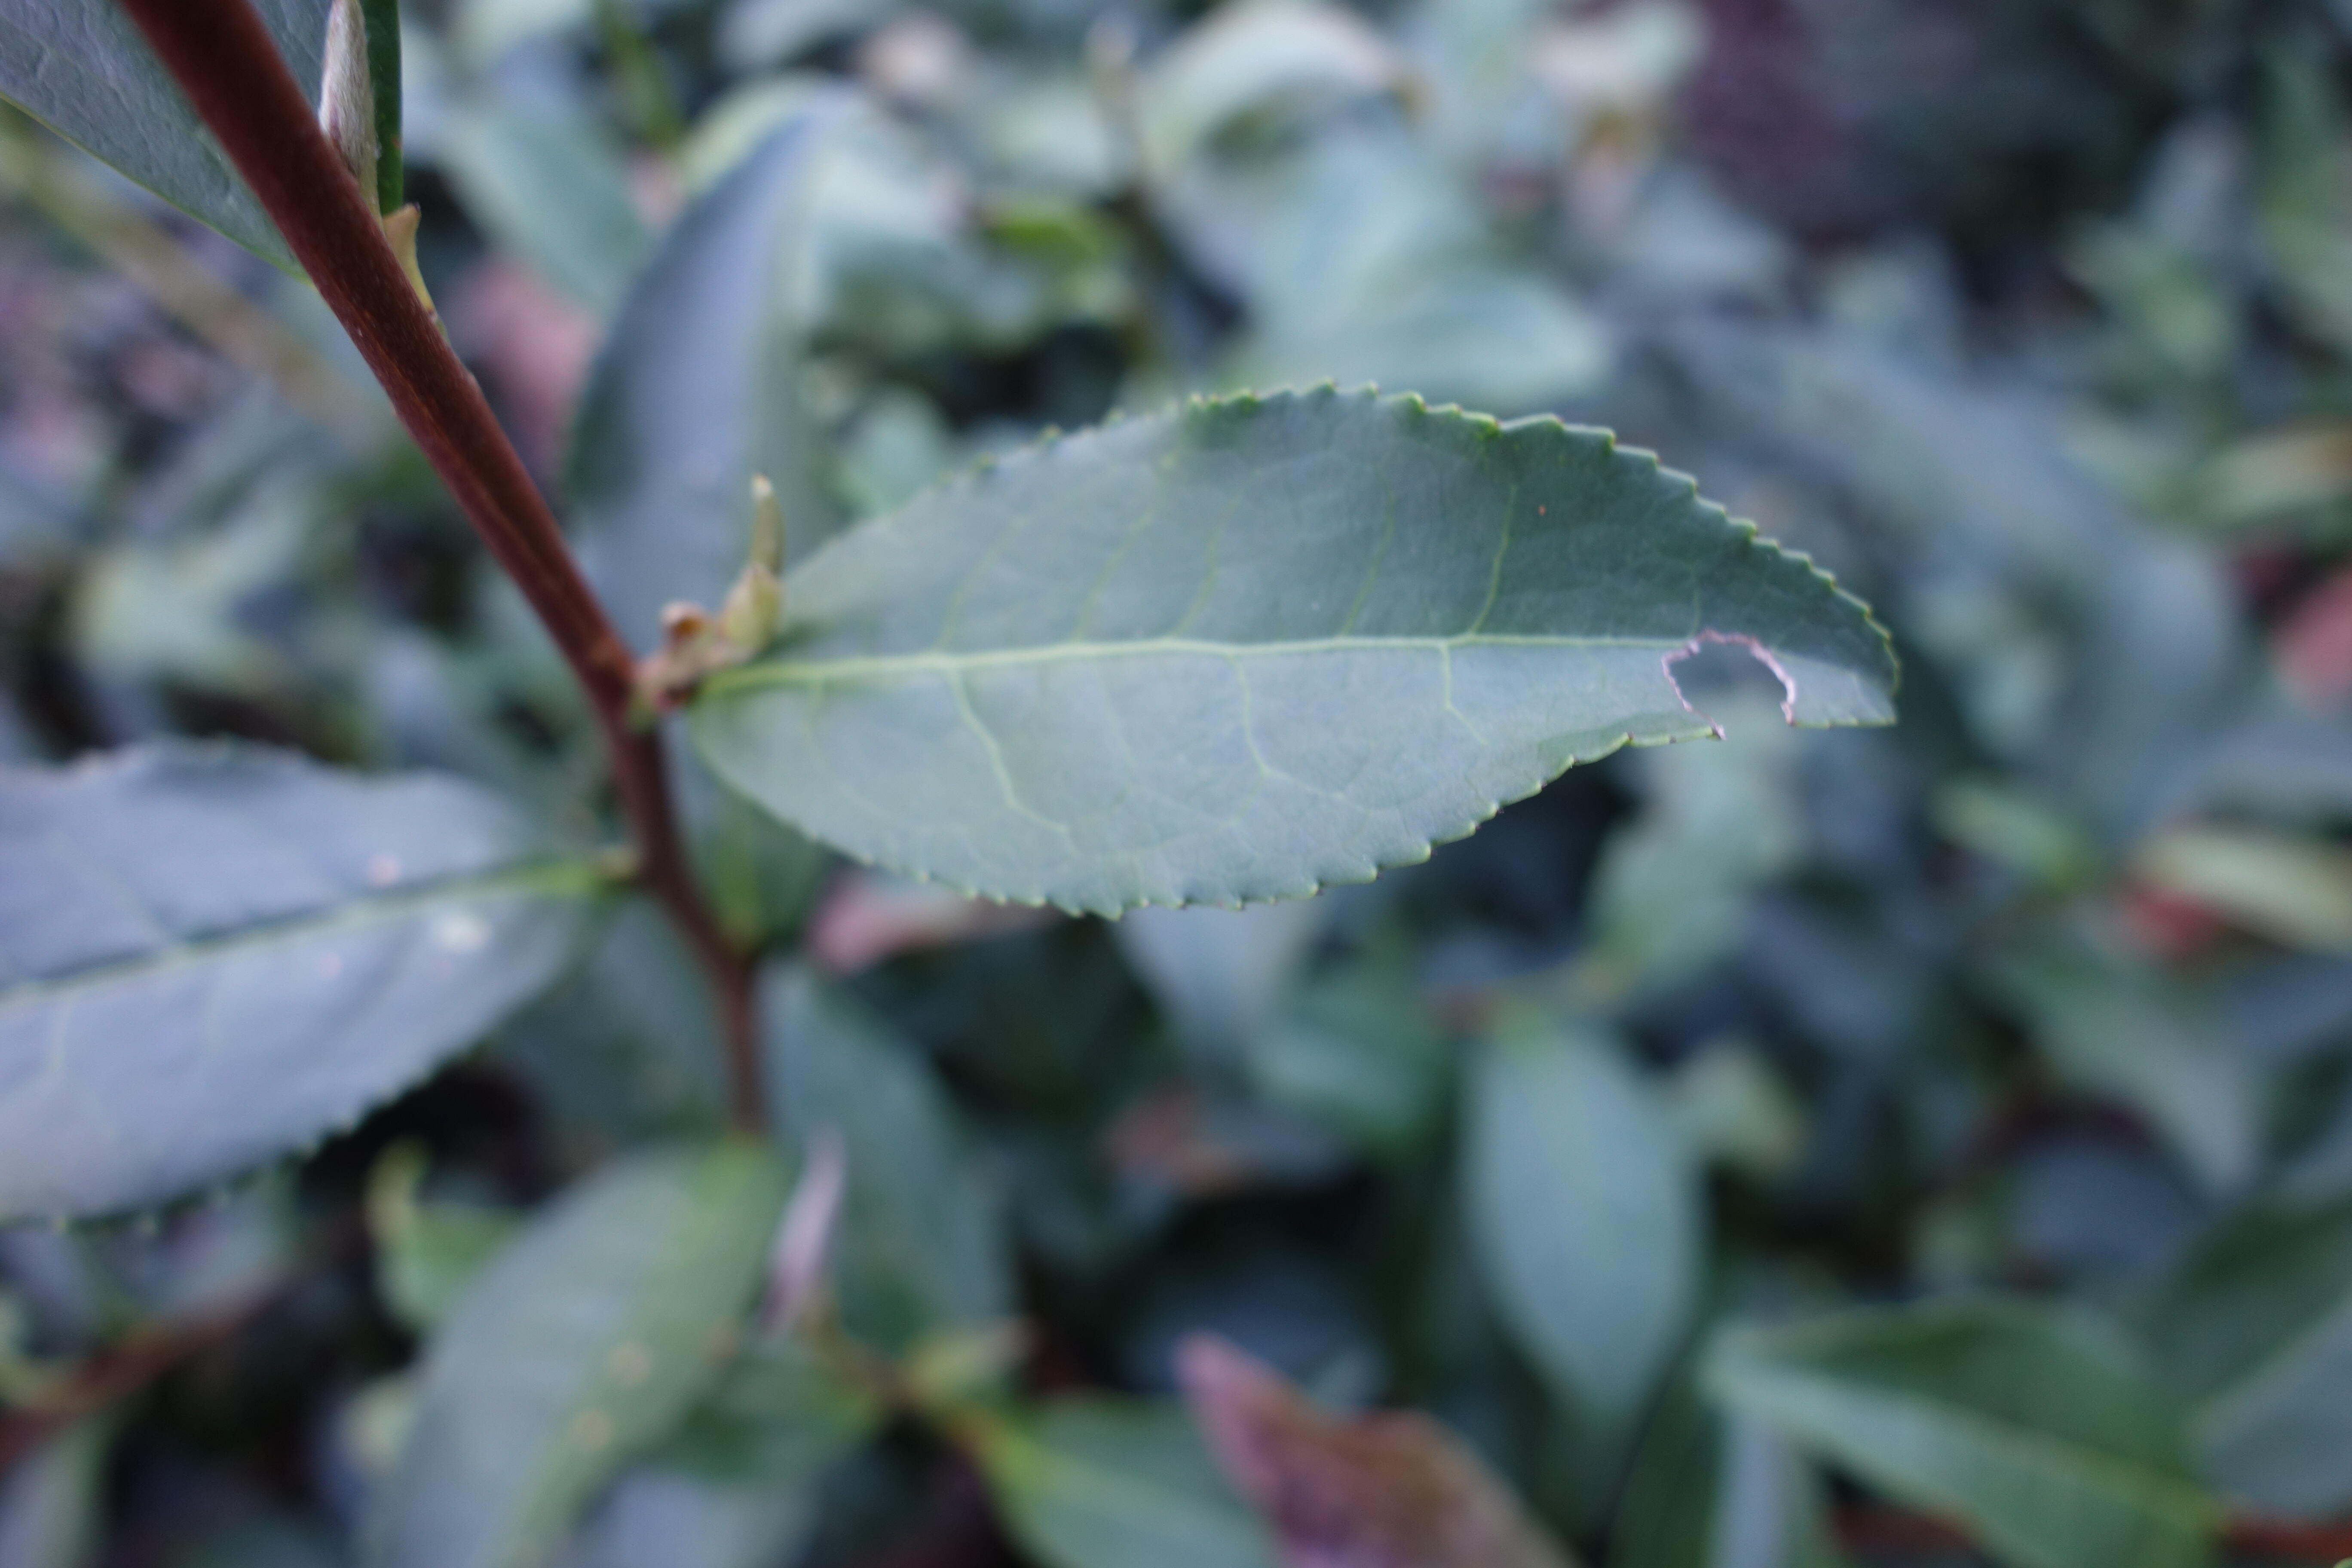chihuo_low: (689, 380, 1911, 920)
